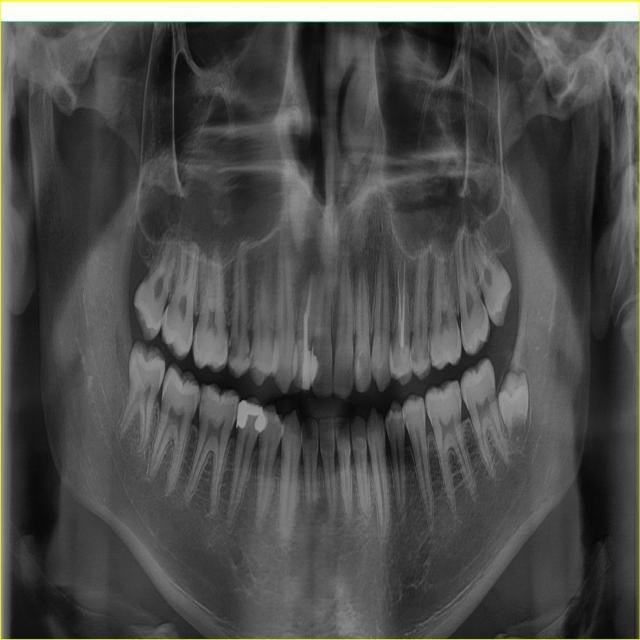71: (302, 311, 309, 381)
74: (399, 261, 408, 349), (304, 274, 313, 318), (397, 271, 402, 343)
NucleOSS Implant: (234, 398, 270, 433)
Sterngold Implant: (227, 335, 239, 362), (422, 340, 430, 365), (198, 391, 207, 411), (410, 348, 417, 365), (456, 392, 464, 405), (243, 347, 249, 362), (438, 393, 444, 406), (404, 414, 408, 425)
Straumann Implant: (389, 343, 419, 382), (292, 338, 312, 389), (309, 343, 319, 387)
